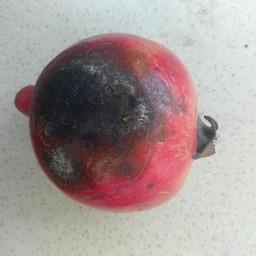Bad_pomegranate: (8, 35, 222, 214)
